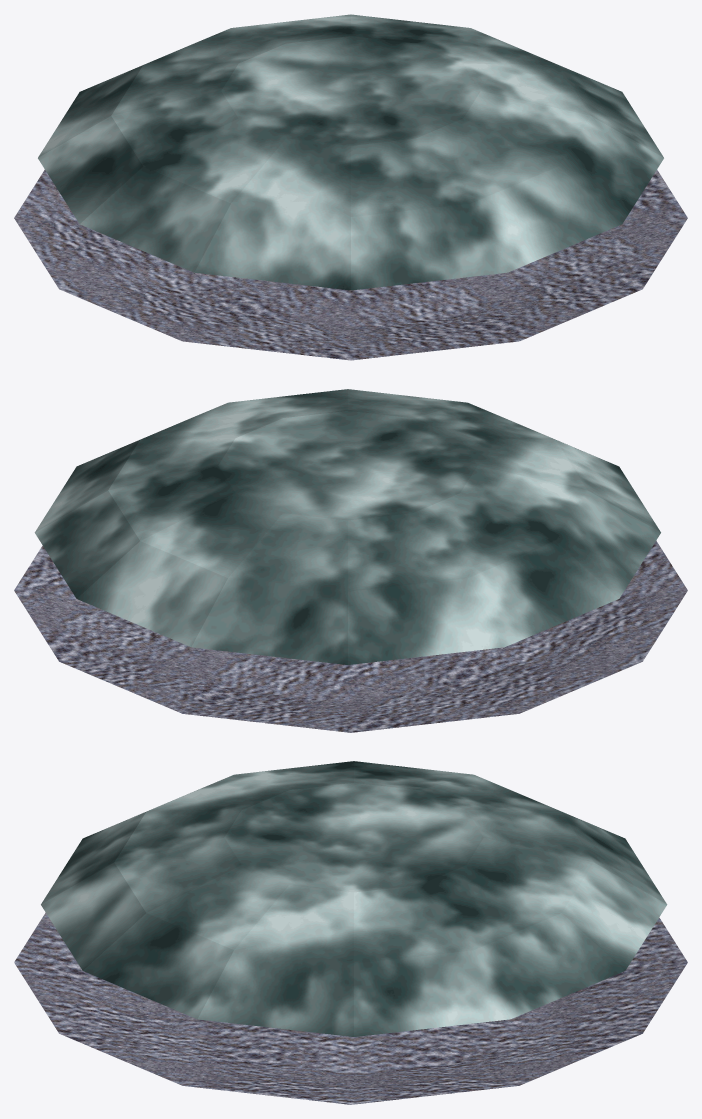
The model's file is recovered_map_mp2.glb.
3 renders of one model, top to bottom at view 1: azimuth 30°, elevation 25°; view 2: azimuth 150°, elevation 25°; view 3: azimuth 270°, elevation 25°, orthographic.
Parts seen in each view (by area): view 1: S_cuba1a_sky01, W_a_water; view 2: S_cuba1a_sky01, W_a_water; view 3: S_cuba1a_sky01, W_a_water.
Part boxes in pixels (bbox=[...]): S_cuba1a_sky01: bbox=[38, 14, 663, 290]; W_a_water: bbox=[14, 169, 687, 360]; S_cuba1a_sky01: bbox=[34, 389, 660, 664]; W_a_water: bbox=[14, 540, 687, 732]; S_cuba1a_sky01: bbox=[41, 761, 667, 1036]; W_a_water: bbox=[14, 912, 687, 1104].
Size of what is drawn, in the model's own units: 722 by 173 by 722.
54 materials, 54 textured.
